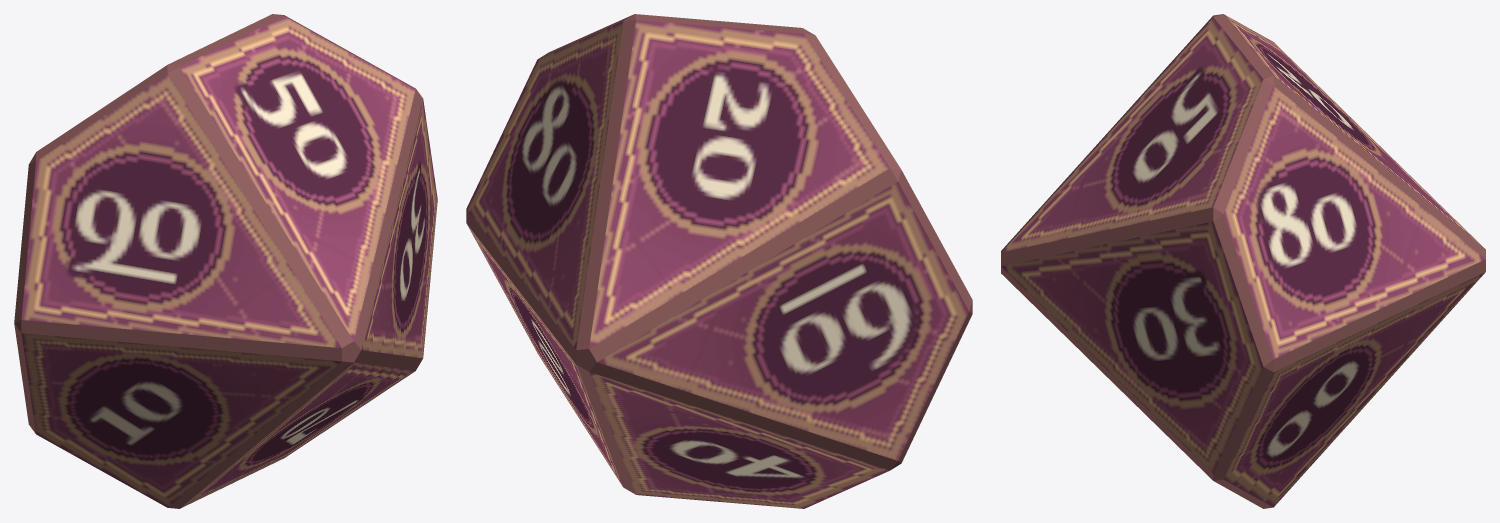
The picture shows the model from 3 angles, left to right: view 1: azimuth 30°, elevation 25°; view 2: azimuth 150°, elevation 25°; view 3: azimuth 270°, elevation 25°; orthographic projection. The views are drawn at different scales.
Size of the model in its own units: 188 by 179 by 183.
Materials: 1 (1 with a texture image).
